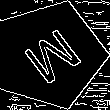M_SE: (14, 21, 84, 89)
